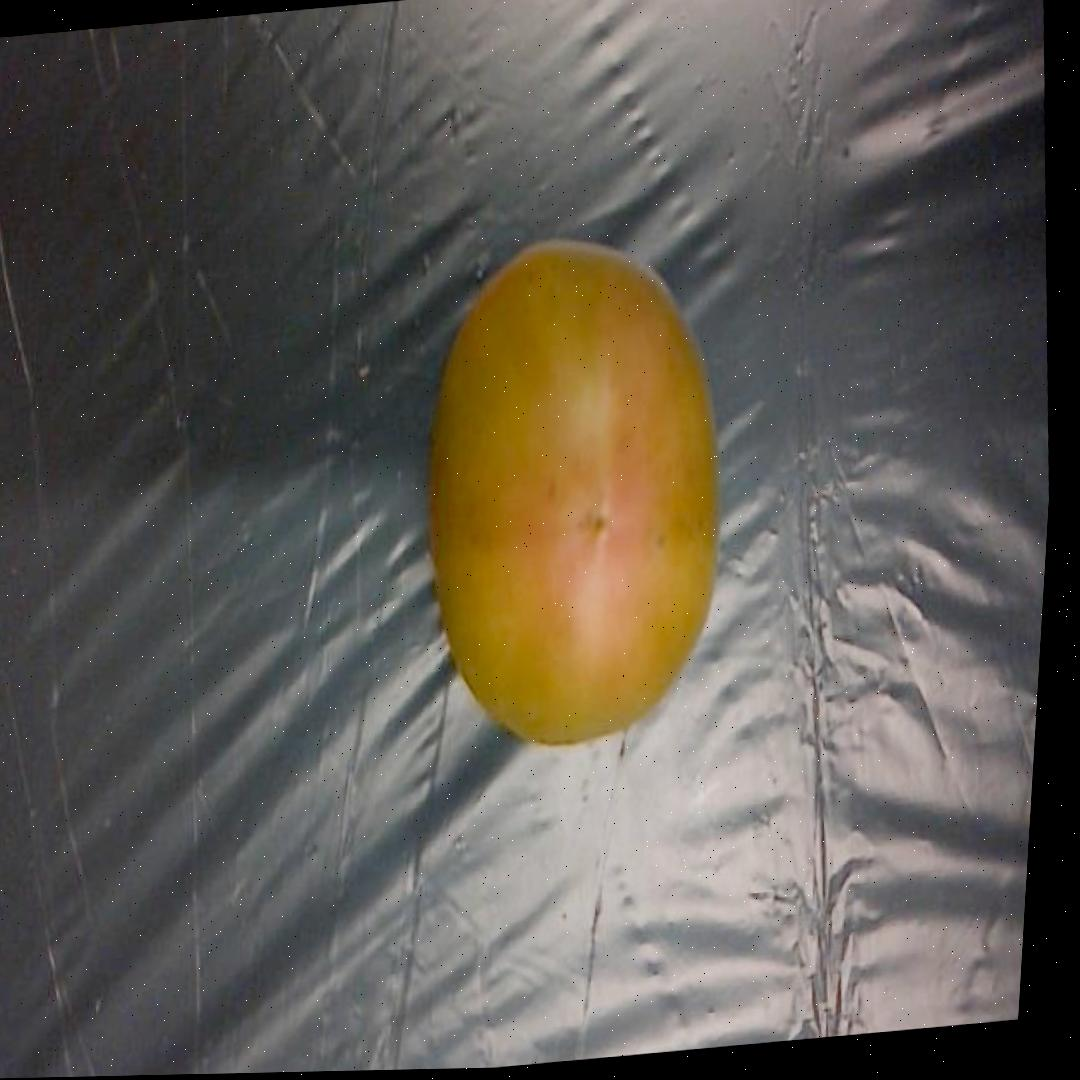mentah: (389, 220, 759, 761)
